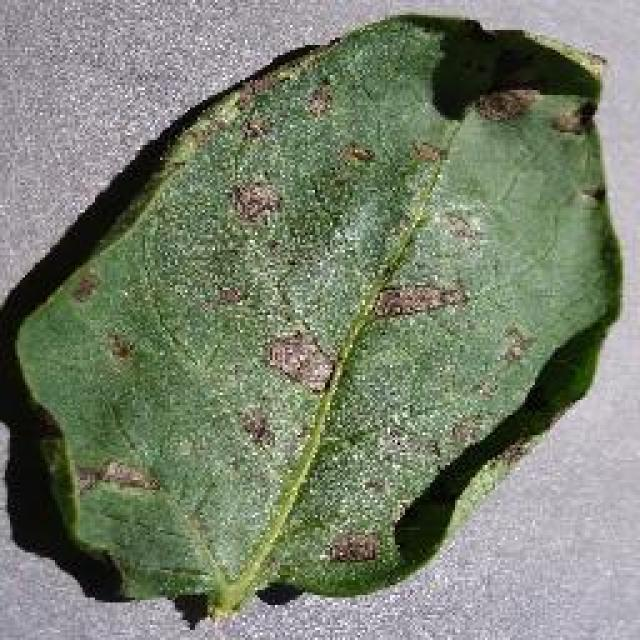early_blight: (8, 10, 628, 622)
